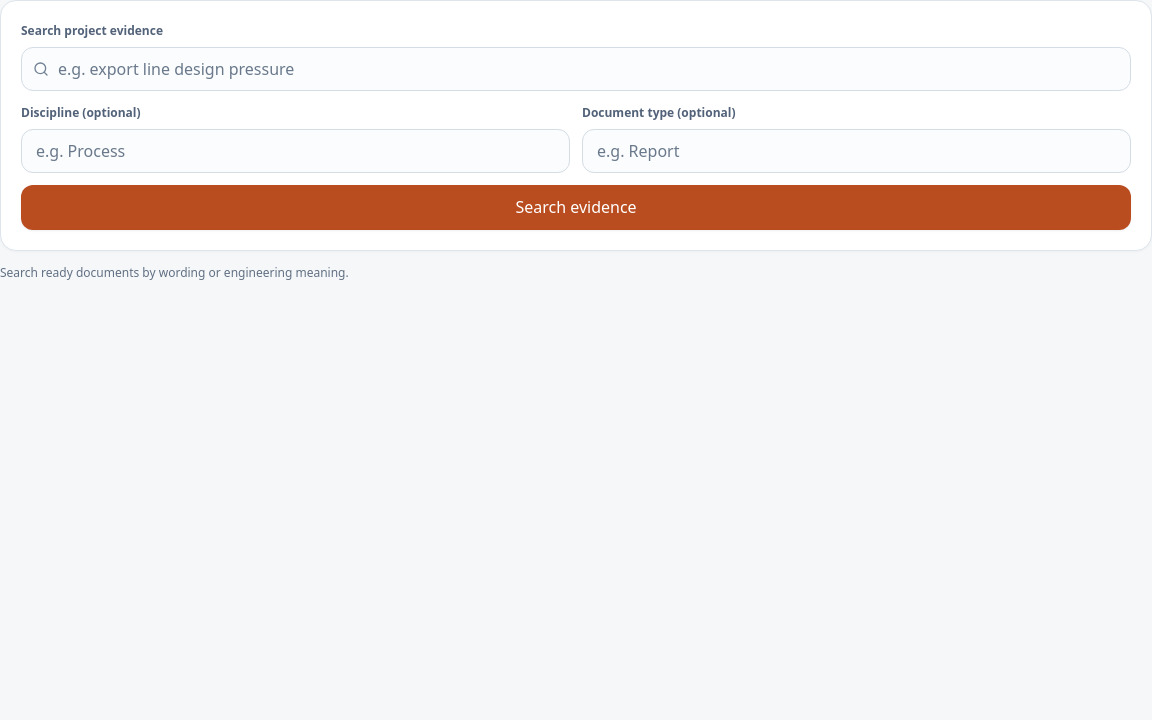
Test: Engineering Search accessibility and reflow › shows relevance ranks instead of treating hybrid_search scores as confidence percentages
The image size is (1152, 720).
Step 1. Type "design pressure" into the search field labelled "Search project evidence" → (576, 69), box [21,47,1131,91]
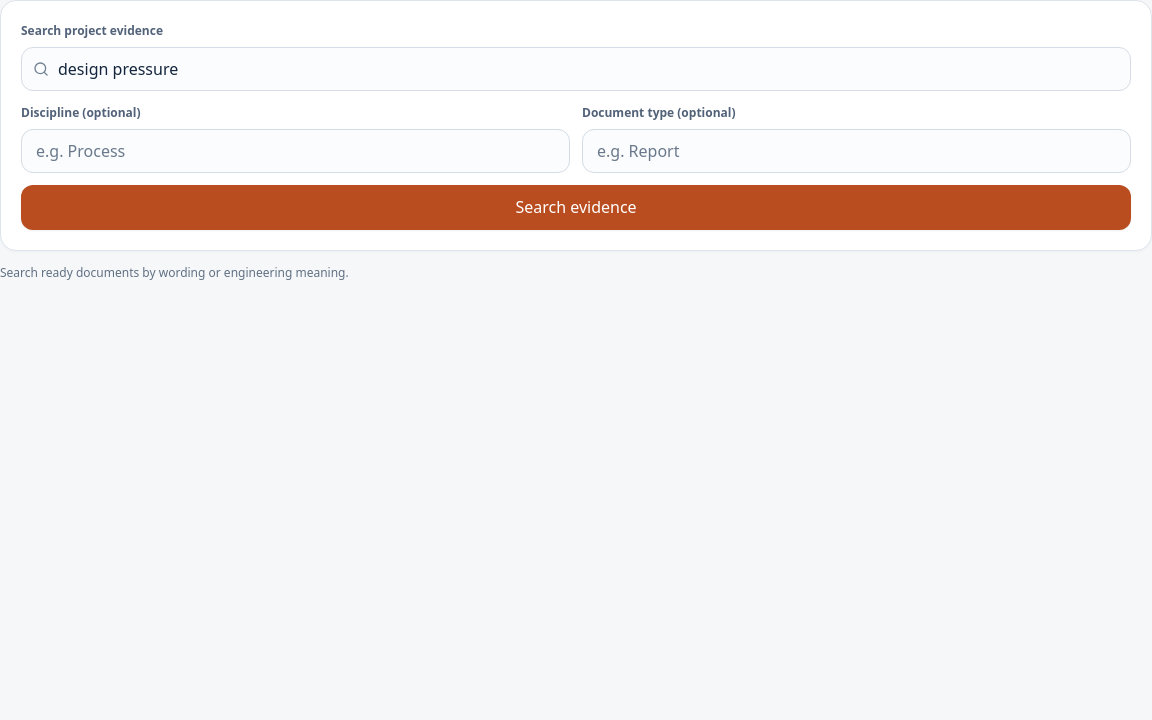
Step 2. Submit the form "Search project evidence", box [0,0,1151,251]
(page scrolled)
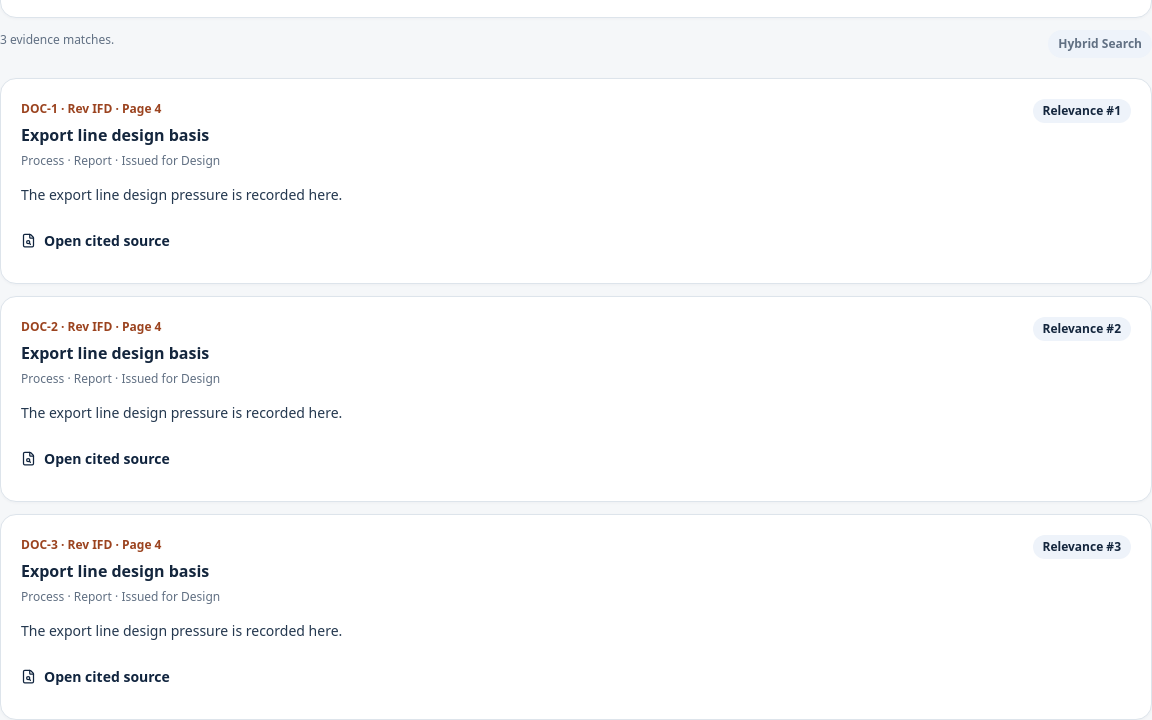
Now the text named "Search relevance rank 1" is shown, box [1032,99,1131,123]
Now the element that starts with "DOC-1" is shown, box [21,100,58,117]
Now the element that starts with "DOC-2" is shown, box [21,318,58,335]
